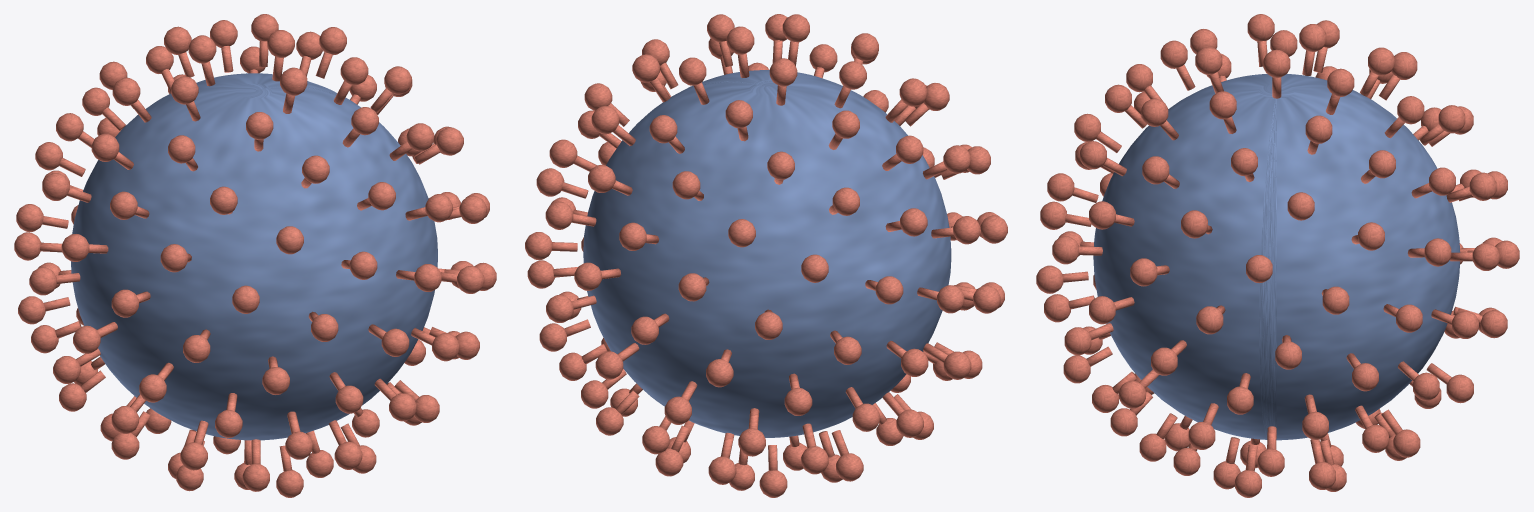
The model's file is complete.glb.
3 views of the same model, side by side, from view 1: azimuth 30°, elevation 25°; view 2: azimuth 150°, elevation 25°; view 3: azimuth 270°, elevation 25° (orthographic).
Visible parts, largest first — view 1: envelope_mesh, espiculas_mesh; view 2: envelope_mesh, espiculas_mesh; view 3: envelope_mesh, espiculas_mesh.
Part boxes in pixels (x1,y1,x2,y2): envelope_mesh: [71, 73, 437, 440]; espiculas_mesh: [14, 14, 496, 497]; envelope_mesh: [583, 70, 951, 437]; espiculas_mesh: [525, 14, 1007, 497]; envelope_mesh: [1093, 74, 1460, 440]; espiculas_mesh: [1036, 14, 1519, 497].
Bounding box in the file's own units: 2.64 × 2.63 × 2.63.
Materials: 4 (4 with a texture image).
